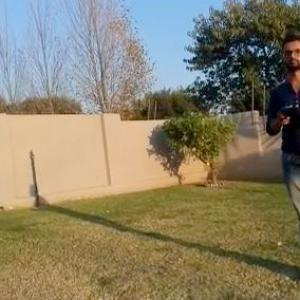follow: (259, 31, 299, 289)
